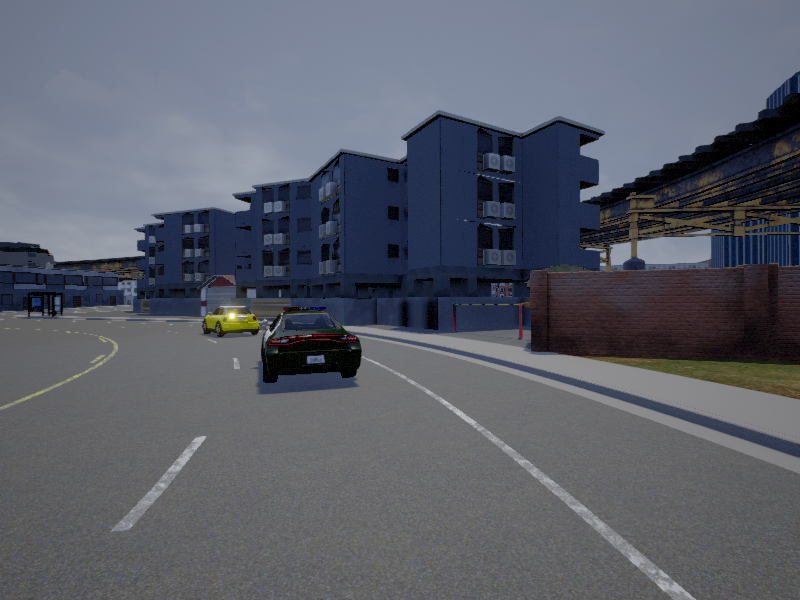Benign: (262, 309, 363, 382), (201, 308, 262, 338)
